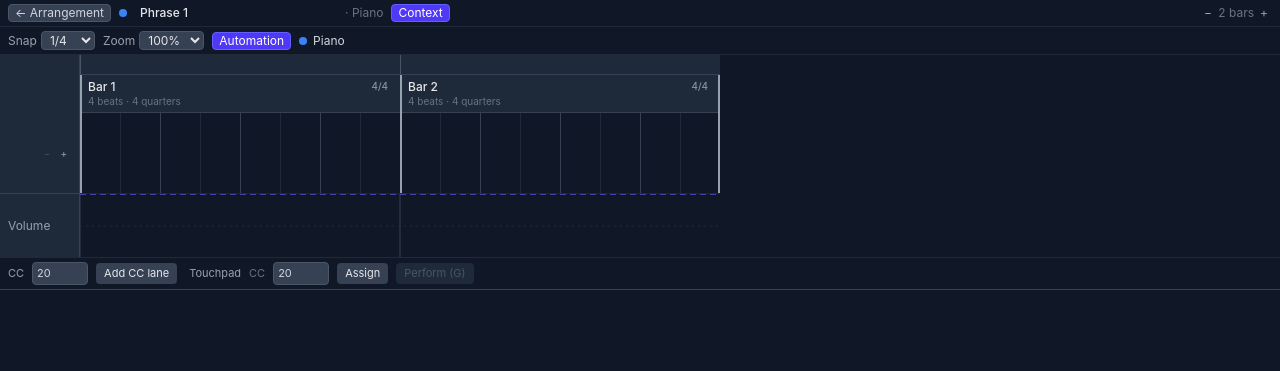
Test: ChordTimeline MIDI CC lanes › adding a lane by number › draws the new lane alongside the volume lane
This screenshot has width=1280, height=371.
Step 1. Replace the text in the number field named "Controller number to automate" with "74" → [60, 274], box [32,262,88,285]
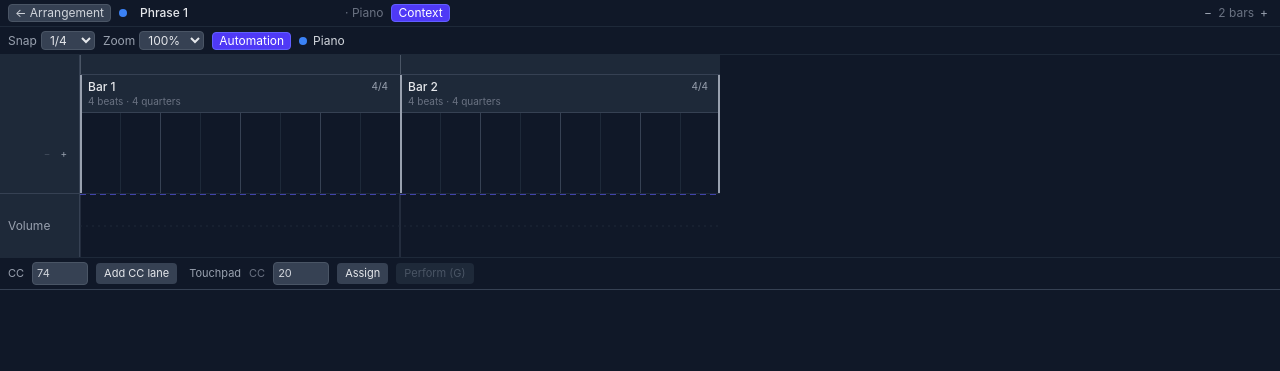
Step 2. Click the button "Add CC lane" → [137, 274], box [96,263,177,284]
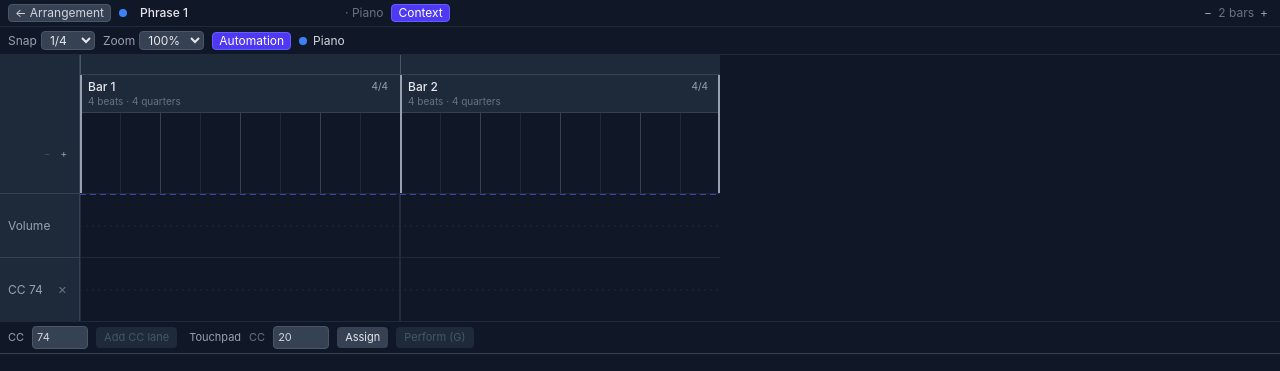
Expected: the icon named "CC 74 automation lane" is shown, [80,258,720,321]
Expected: the number of elements with test id "automation-lane" is 2, [80,193,720,257]; [80,257,720,321]
